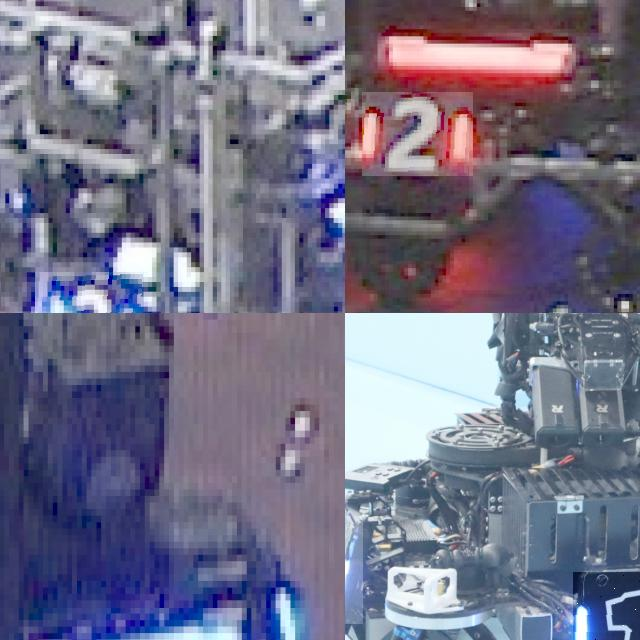B2: (35, 272, 143, 313)
Bs: (573, 572, 640, 640), (345, 516, 363, 624)
R2: (362, 92, 473, 176)
